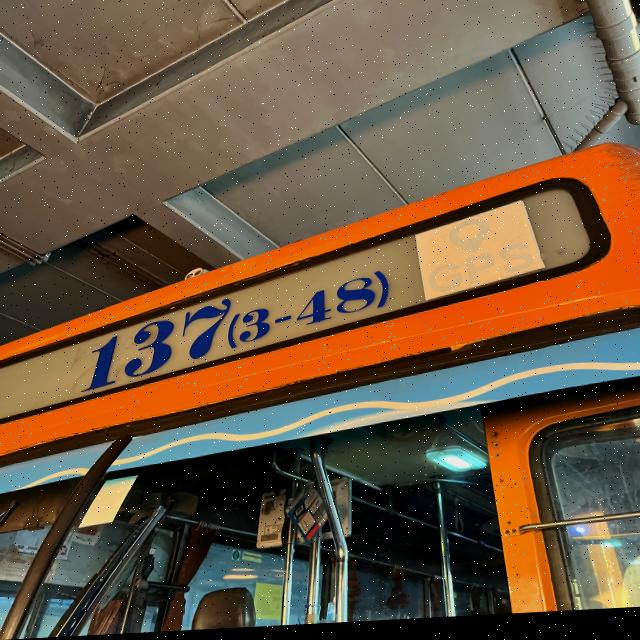BMTA-bus: (0, 151, 640, 640)
Bus Line Number: (70, 247, 393, 401)
